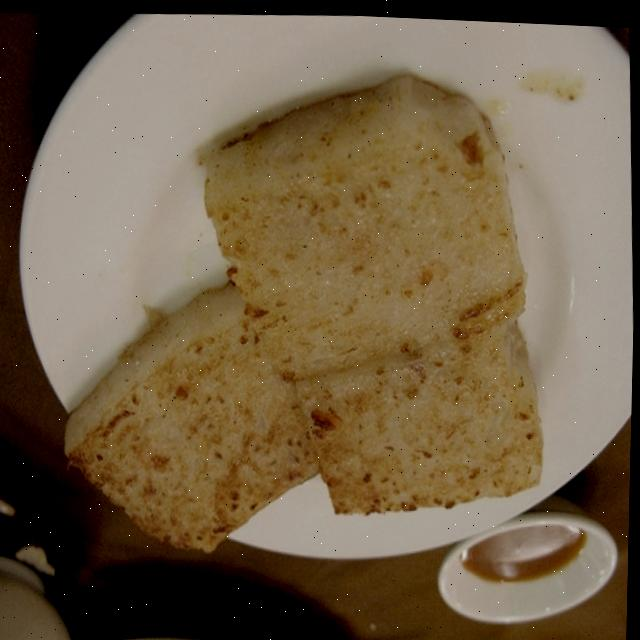蛋糕甜品: (17, 22, 605, 583)
